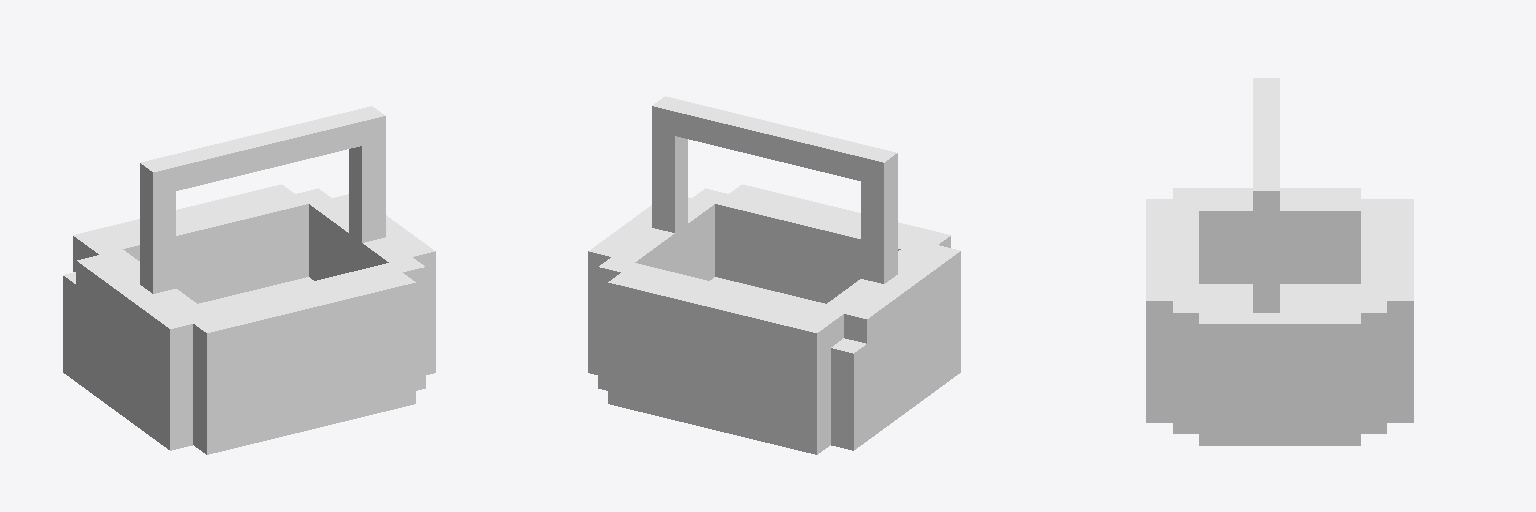
Rendered from well.obj.
3 views of the same model, side by side, from view 1: azimuth 30°, elevation 25°; view 2: azimuth 150°, elevation 25°; view 3: azimuth 270°, elevation 25° (orthographic).
Size of the model in its own units: 12 by 10 by 10.